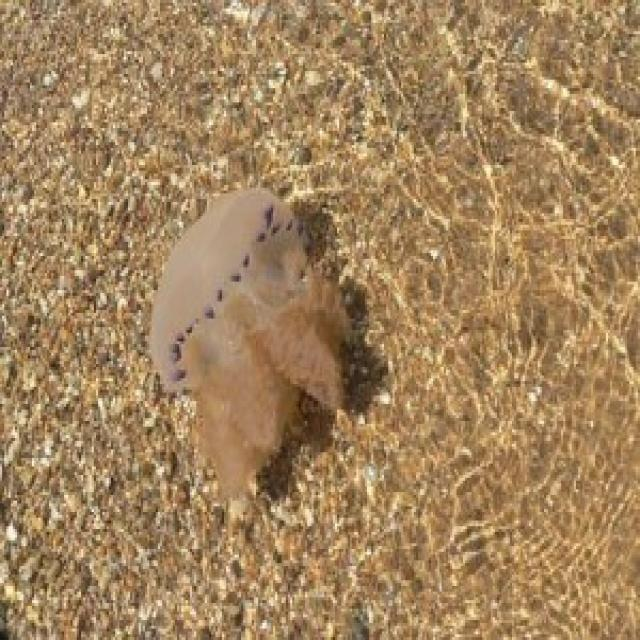Jellyfish: (136, 192, 369, 526)
